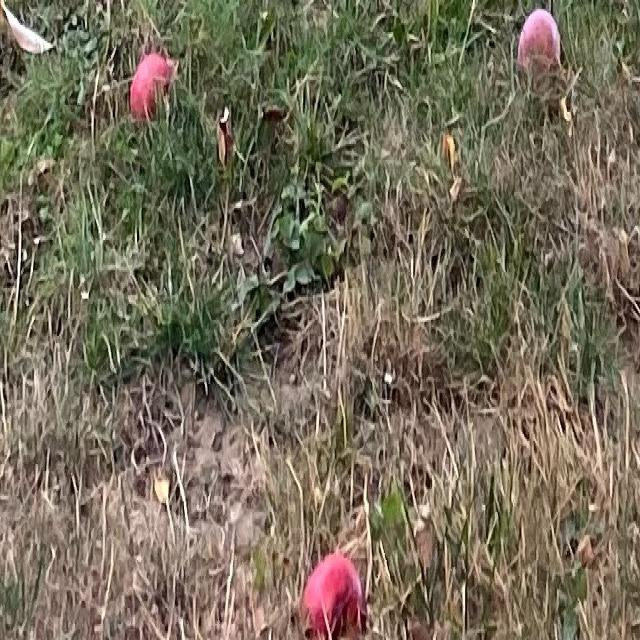Apples: (305, 553, 364, 638), (131, 57, 173, 124), (519, 12, 560, 73)
